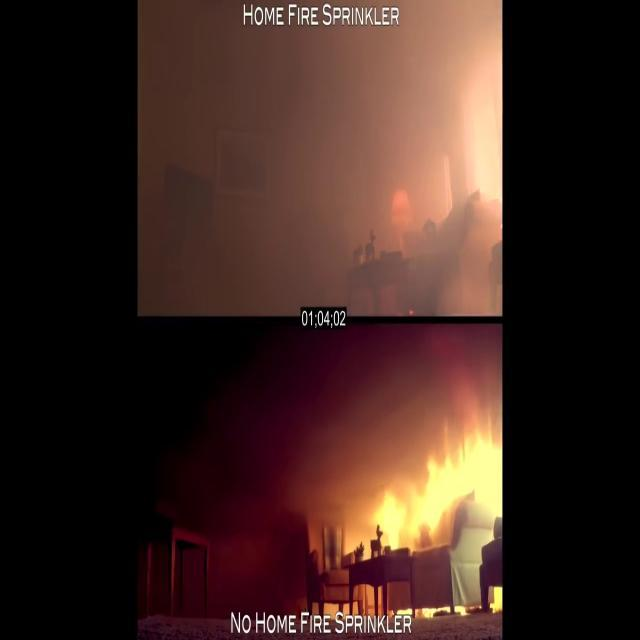Fire: (328, 412, 502, 564)
Smoke: (143, 3, 502, 305)
